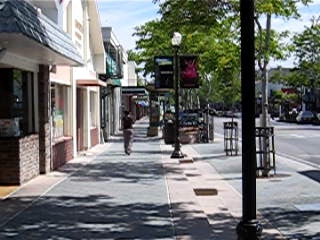person: (121, 109, 136, 156), (120, 109, 135, 156), (122, 109, 137, 156), (121, 108, 136, 155), (121, 110, 136, 157)
target_negative: (46, 158, 232, 232), (157, 216, 174, 235), (232, 107, 242, 138), (231, 225, 245, 239), (272, 230, 318, 233)
